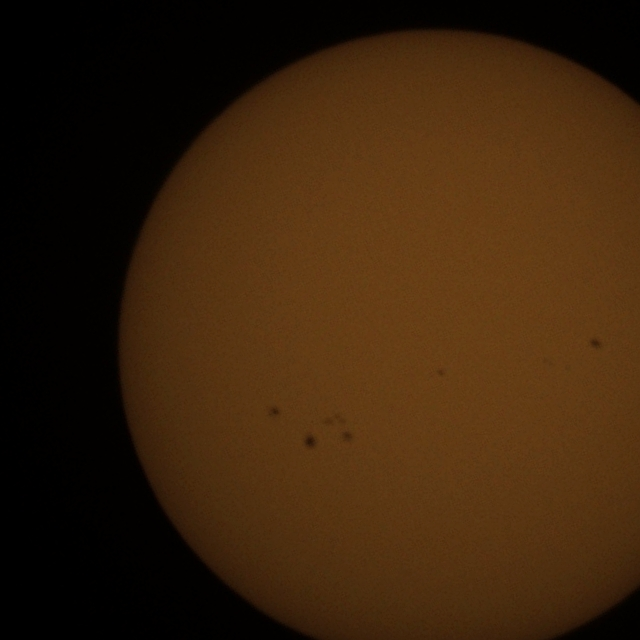sunspot: (322, 406, 351, 425), (432, 360, 453, 383), (338, 430, 357, 445), (303, 434, 317, 450), (589, 337, 603, 351), (267, 405, 281, 419)
